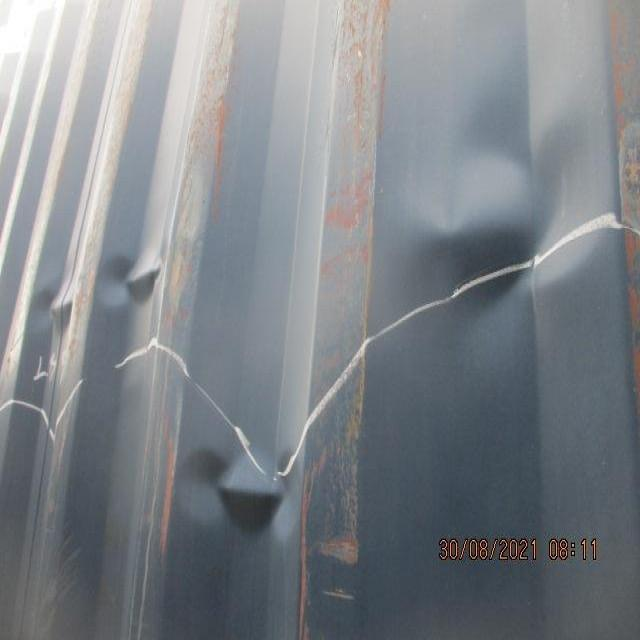dent: (5, 101, 627, 586)
